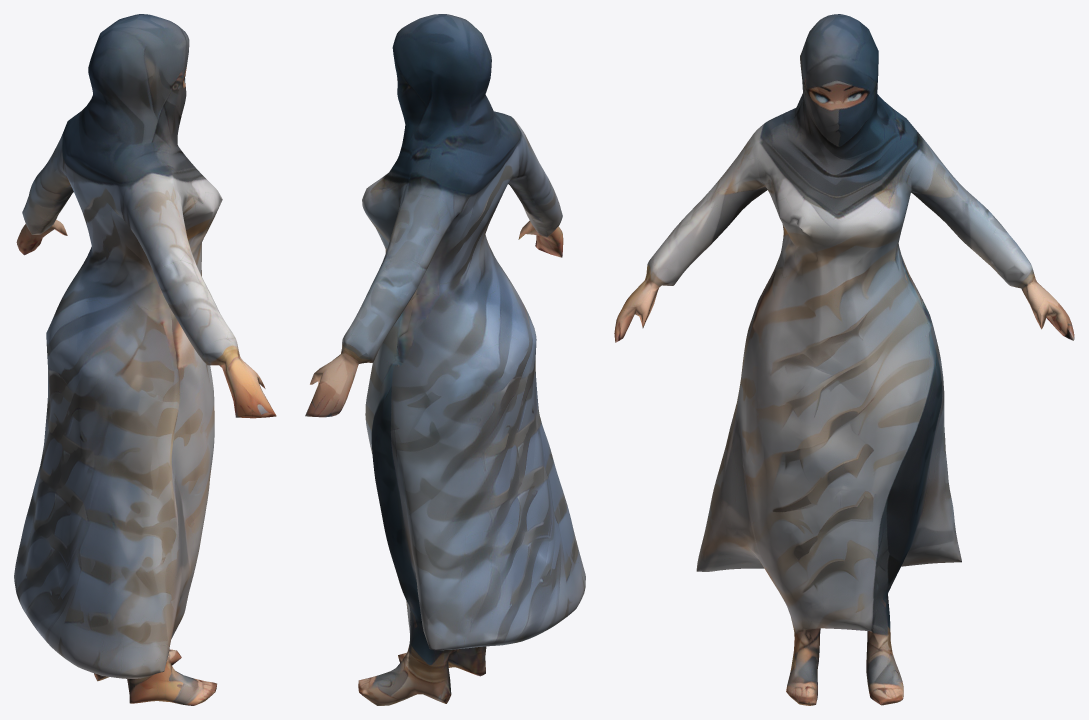
Rendered from queen.glb.
3 views of the same model, side by side, from view 1: azimuth 30°, elevation 25°; view 2: azimuth 150°, elevation 25°; view 3: azimuth 270°, elevation 25° (orthographic). The views are drawn at different scales.
Parts seen in each view (by area): view 1: mesh_0; view 2: mesh_0; view 3: mesh_0.
Boxes of the visible parts, x1,y1,x2,y2 form: mesh_0: [14, 14, 276, 705]; mesh_0: [305, 14, 585, 705]; mesh_0: [614, 14, 1074, 705].
Bounding box in the file's own units: 0.3101 × 1.2 × 0.7501.
Materials: 1 (1 with a texture image).
